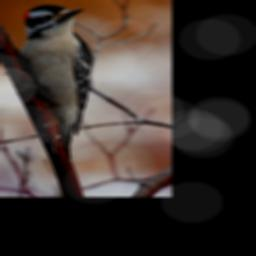Woodpecker: (15, 4, 92, 159)
